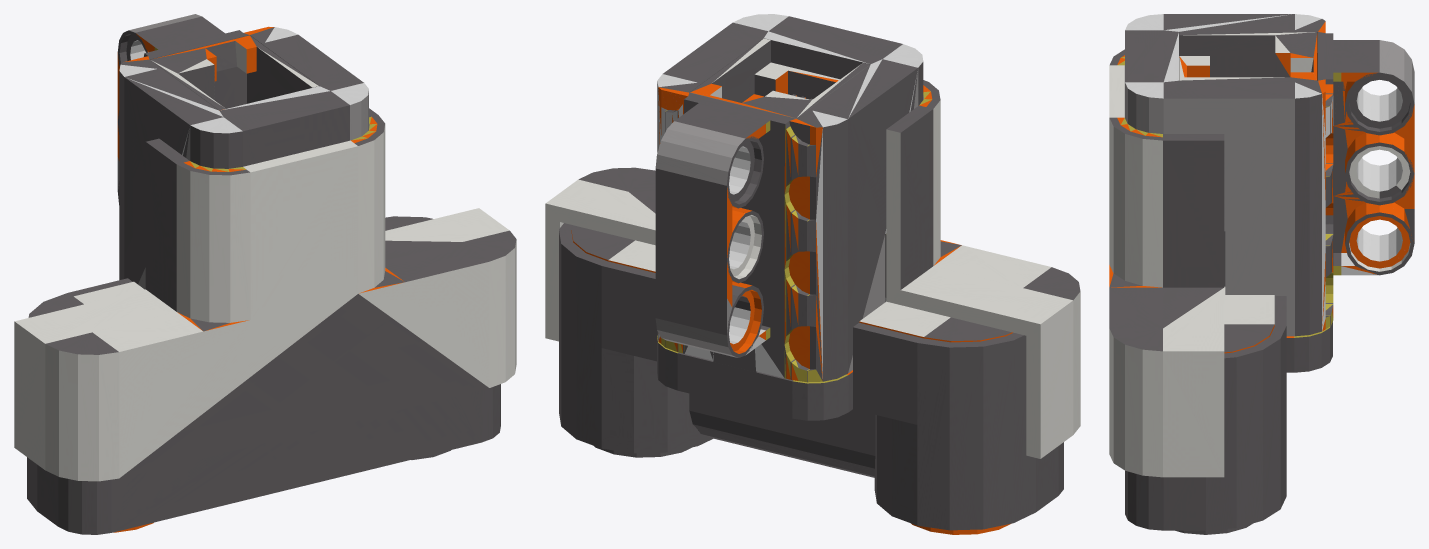
File: ultrasonic_sensor_9846.dae
3 views of the same model, side by side, from view 1: azimuth 30°, elevation 25°; view 2: azimuth 150°, elevation 25°; view 3: azimuth 270°, elevation 25° (orthographic). The views are drawn at different scales.
Visible parts, largest first — view 1: node; view 2: node; view 3: node.
Boxes of the visible parts, bbox=[...] form: node: bbox=[14, 14, 516, 534]; node: bbox=[545, 14, 1080, 534]; node: bbox=[1109, 14, 1414, 534].
Size of the model in its own units: 138 by 108 by 78.5.
1 material, 1 textured.
